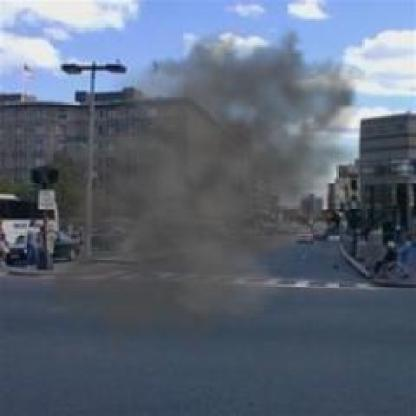Smoke: (22, 6, 385, 375)
